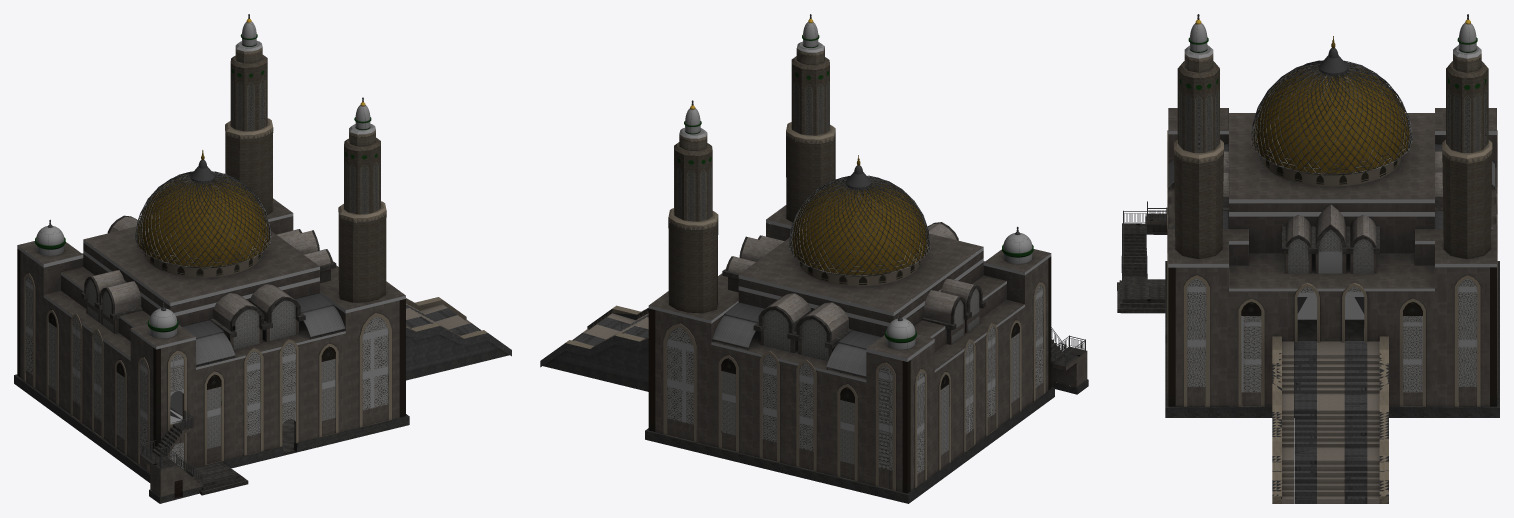
Rendered from masjidmoeldoko.glb.
3 views of the same model, side by side, from view 1: azimuth 30°, elevation 25°; view 2: azimuth 150°, elevation 25°; view 3: azimuth 270°, elevation 25° (orthographic). The views are drawn at different scales.
Parts seen in each view (by area): view 1: piece_1, piece_2, piece_9, piece_0, piece_43, piece_3, piece_8, piece_18, piece_15, piece_21, piece_34, piece_16 (+21 smaller); view 2: piece_1, piece_2, piece_9, piece_0, piece_43, piece_3, piece_18, piece_8, piece_15, piece_21, piece_35, piece_34 (+19 smaller); view 3: piece_1, piece_2, piece_0, piece_38, piece_37, piece_43, piece_3, piece_9, piece_22, piece_48, piece_21, piece_18 (+17 smaller).
Boxes of the visible parts, x1,y1,x2,y2 form: piece_1: [18, 198, 405, 498]; piece_2: [137, 174, 269, 266]; piece_9: [23, 258, 391, 472]; piece_0: [225, 129, 386, 302]; piece_43: [135, 171, 271, 267]; piece_3: [230, 55, 380, 214]; piece_8: [91, 217, 330, 330]; piece_18: [14, 374, 409, 503]; piece_15: [406, 326, 511, 380]; piece_21: [48, 322, 335, 464]; piece_34: [362, 316, 388, 426]; piece_16: [17, 213, 405, 369]; piece_1: [649, 205, 1087, 492]; piece_2: [790, 178, 928, 274]; piece_9: [663, 264, 1045, 490]; piece_0: [668, 134, 835, 313]; piece_43: [788, 175, 930, 275]; piece_3: [674, 56, 829, 221]; piece_18: [645, 379, 1088, 503]; piece_8: [728, 223, 975, 340]; piece_15: [540, 335, 648, 391]; piece_21: [721, 332, 1019, 480]; piece_35: [762, 354, 813, 470]; piece_34: [667, 327, 693, 441]; piece_1: [1121, 108, 1496, 406]; piece_2: [1252, 64, 1409, 173]; piece_0: [1174, 154, 1492, 259]; piece_38: [1282, 341, 1379, 503]; piece_37: [1294, 341, 1367, 503]; piece_43: [1251, 60, 1412, 174]; piece_3: [1177, 61, 1488, 152]; piece_9: [1167, 130, 1497, 406]; piece_22: [1187, 278, 1477, 406]; piece_48: [1251, 61, 1412, 503]; piece_21: [1241, 316, 1422, 406]; piece_18: [1121, 256, 1499, 417].
Size of the model in its own units: 74.76 by 56 by 50.35.
48 materials, 45 textured.
